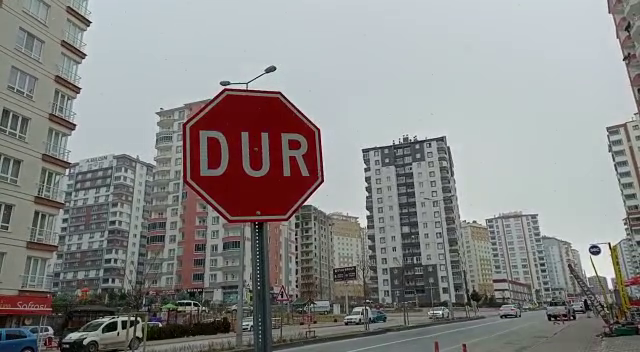stop: (180, 86, 327, 225)
